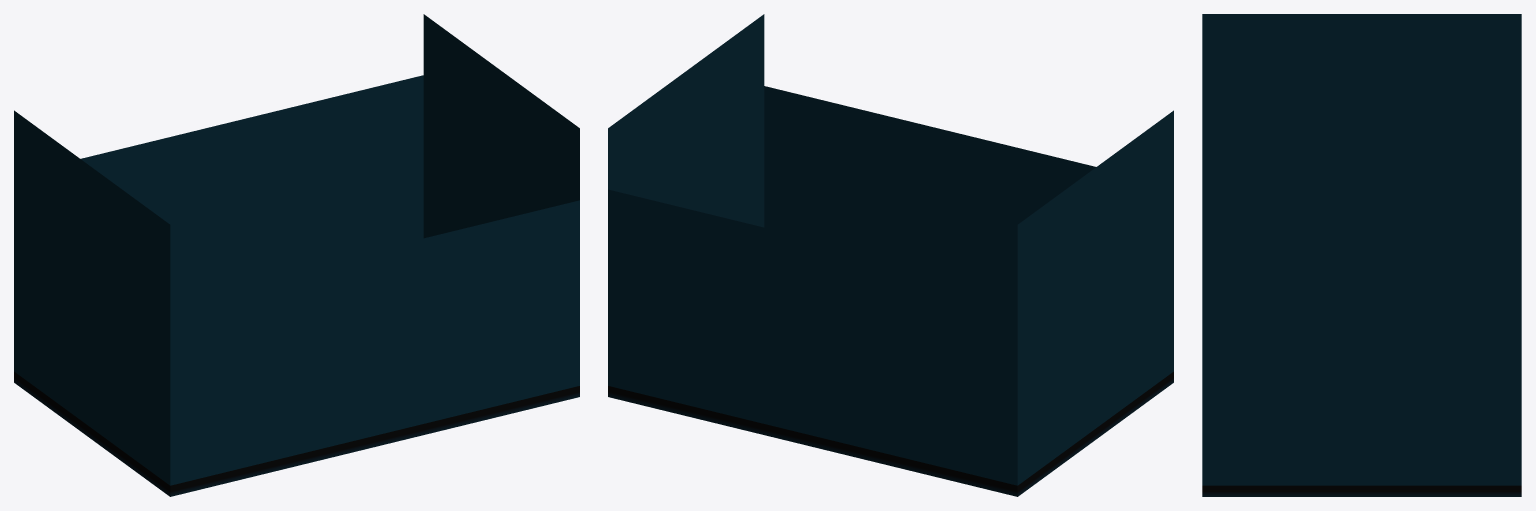
The model's file is ceiling_c.glb.
The picture shows the model from 3 angles, left to right: view 1: azimuth 30°, elevation 25°; view 2: azimuth 150°, elevation 25°; view 3: azimuth 270°, elevation 25°; orthographic projection. The views are drawn at different scales.
Parts seen in each view (by area): view 1: ceiling_skirt, tiles; view 2: ceiling_skirt, tiles; view 3: ceiling_skirt, tiles.
Part boxes in pixels (x1,y1,x2,y2): ceiling_skirt: (14,14,579,485); tiles: (14,371,579,496); ceiling_skirt: (608,14,1173,485); tiles: (608,371,1173,496); ceiling_skirt: (1202,14,1521,485); tiles: (1202,485,1521,496).
Bounding box in the file's own units: 1.15 × 0.728 × 0.7571.
